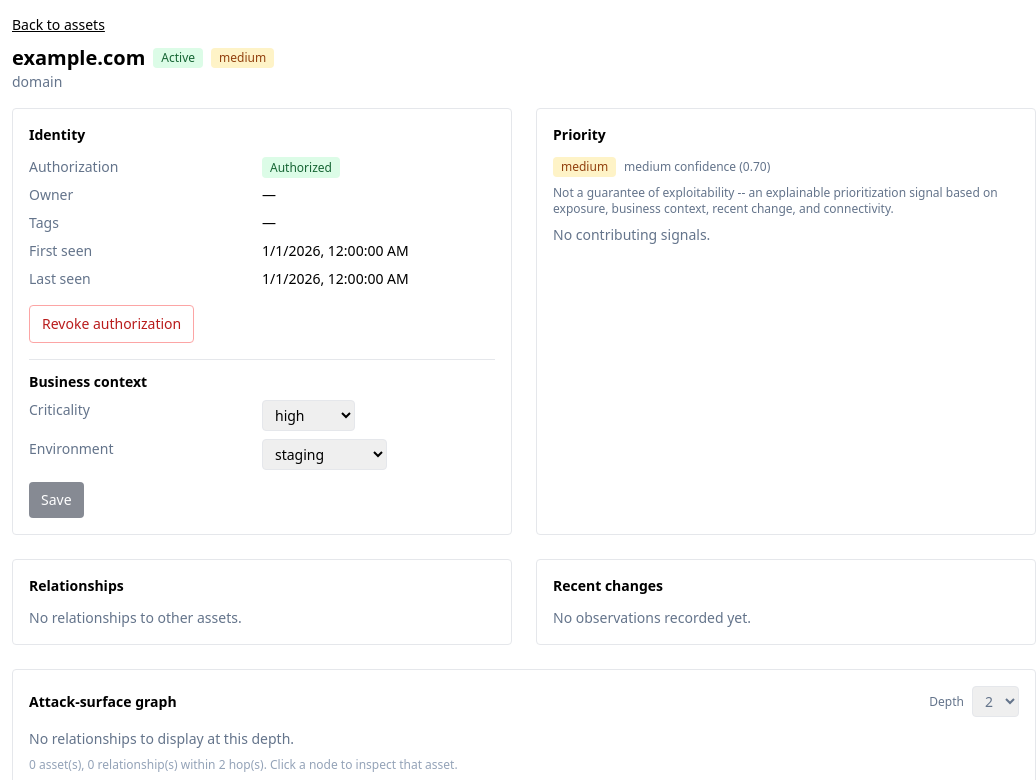
Scenario: AssetDetailPage business context (Stage A.1) › lets an analyst edit too, sending a cleared value as null
Select "Not set" in the dropdown named "Criticality" at (308, 416), box [262,400,355,431]
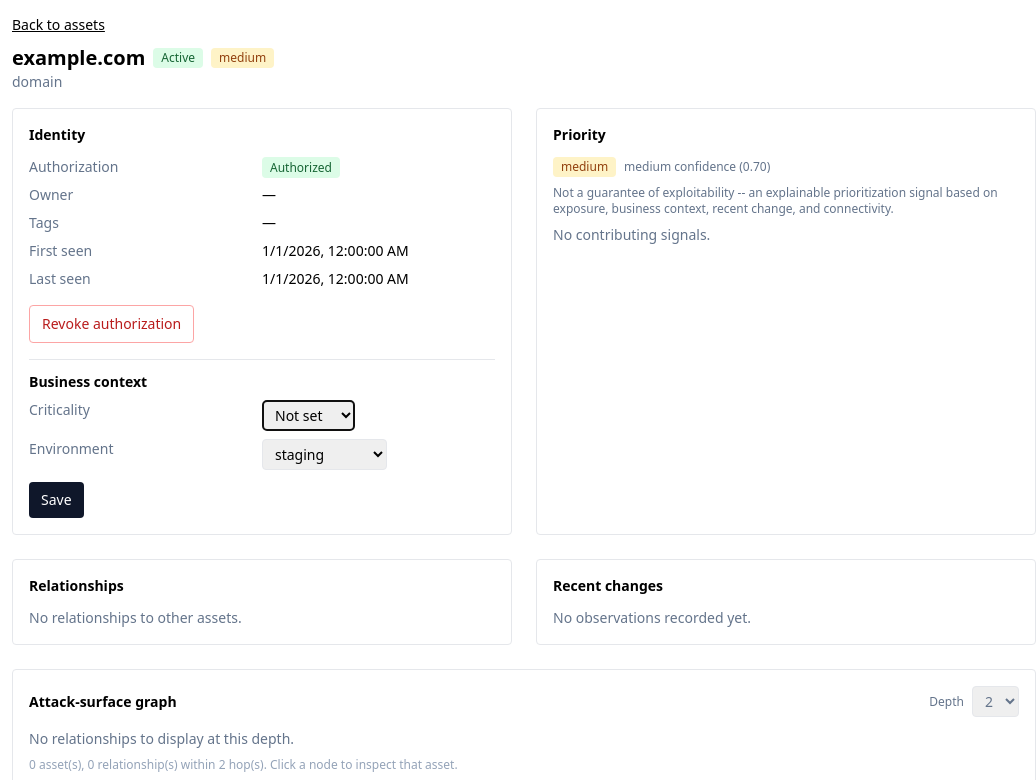
Select "production" in the dropdown named "Environment" at (324, 454), box [262,439,387,470]
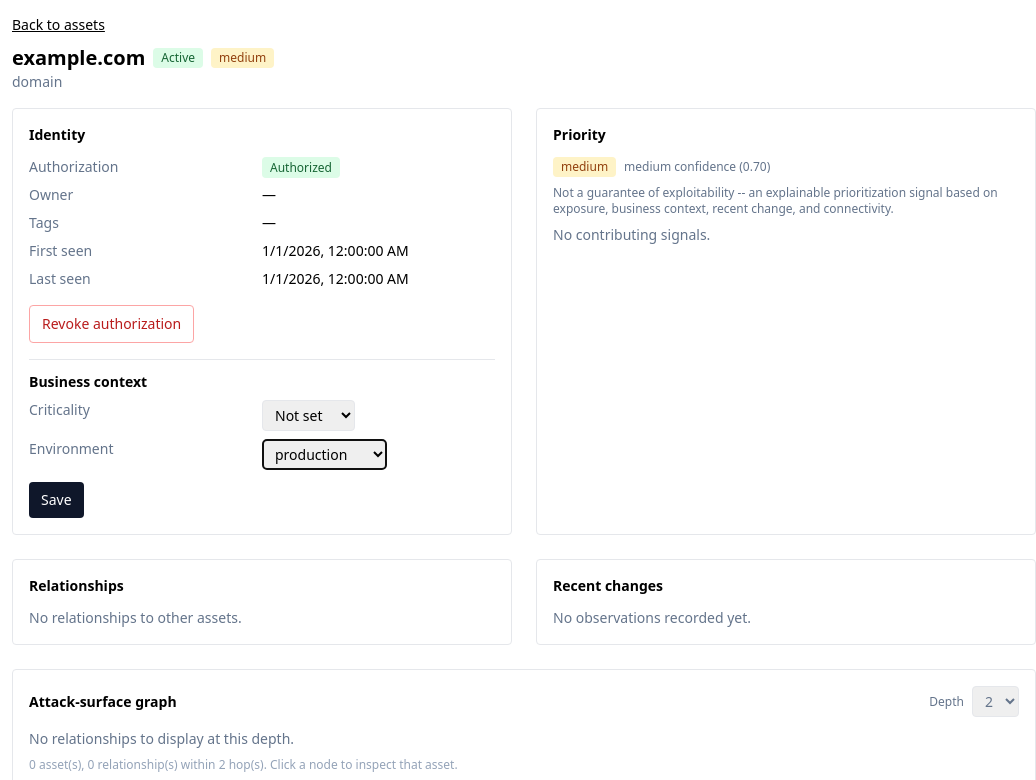
Click the button "Save" at (56, 500), box [29,482,84,518]
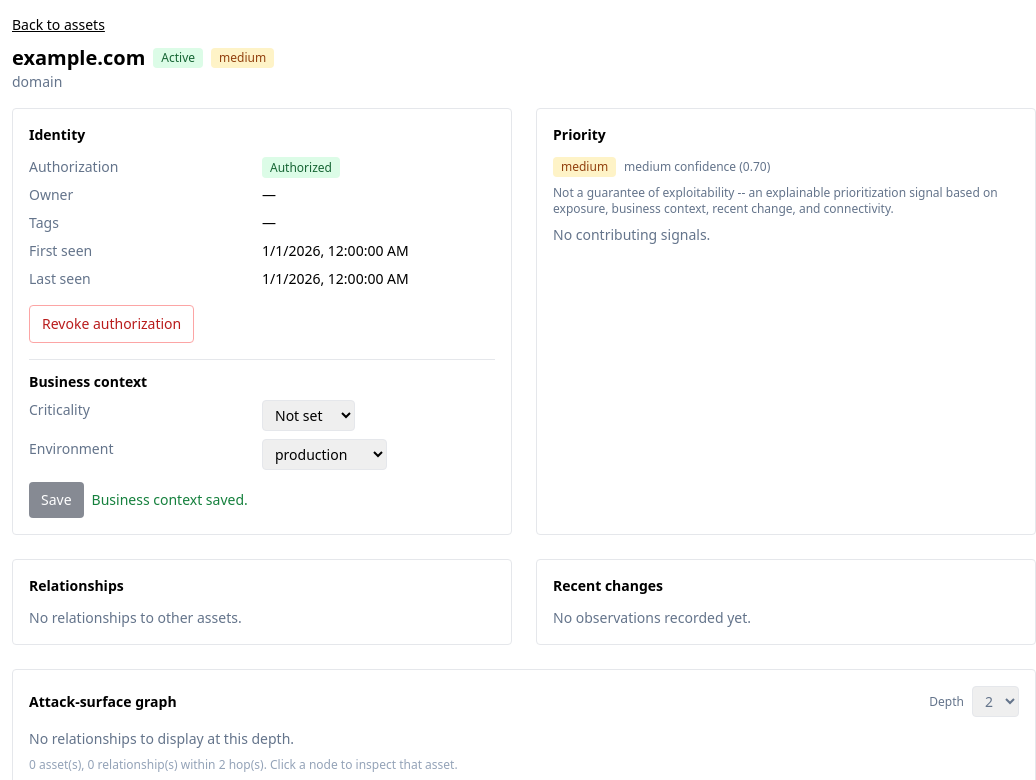
Now the message reads "Business context saved.", box [92,490,248,509]
